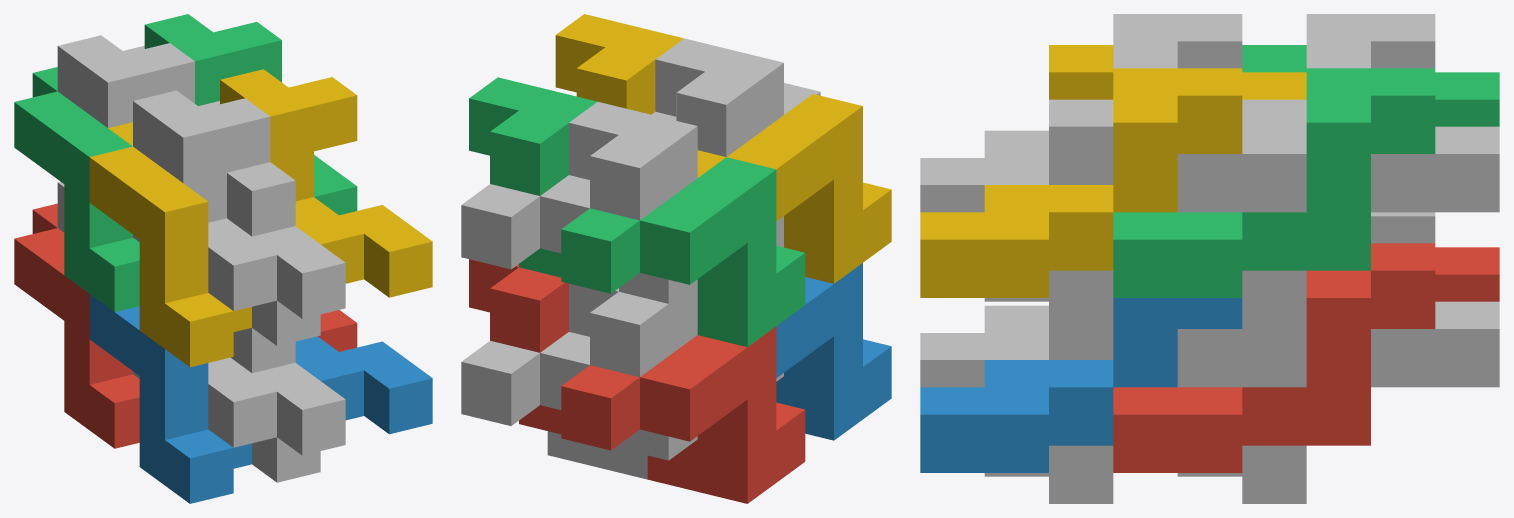
File: tiling.obj
The picture shows the model from 3 angles, left to right: view 1: azimuth 30°, elevation 25°; view 2: azimuth 150°, elevation 25°; view 3: azimuth 270°, elevation 25°; orthographic projection. The views are drawn at different scales.
Visible parts, largest first — view 1: copy_2_domain_4, copy_1_domain_4, copy_2_domain_8, copy_1_domain_2, copy_1_domain_3, copy_1_domain_1, copy_2_domain_2, copy_2_domain_3, copy_2_domain_6, copy_2_domain_7, copy_1_domain_8, copy_1_domain_6 (+1 smaller); view 2: copy_1_domain_1, copy_1_domain_3, copy_1_domain_4, copy_1_domain_2, copy_2_domain_3, copy_2_domain_4, copy_2_domain_7, copy_1_domain_5, copy_2_domain_1, copy_2_domain_8, copy_1_domain_7, copy_2_domain_5; view 3: copy_2_domain_7, copy_2_domain_8, copy_2_domain_5, copy_2_domain_6, copy_1_domain_8, copy_1_domain_7, copy_2_domain_4, copy_1_domain_6, copy_1_domain_5, copy_2_domain_3, copy_2_domain_2, copy_1_domain_3 (+3 smaller).
Part boxes in pixels (x1,y1,x2,y2): copy_2_domain_4: (133, 90, 345, 318); copy_1_domain_4: (89, 122, 251, 367); copy_2_domain_8: (220, 69, 432, 297); copy_1_domain_2: (89, 294, 251, 503); copy_1_domain_3: (14, 67, 139, 311); copy_1_domain_1: (14, 203, 139, 448); copy_2_domain_2: (208, 357, 345, 455); copy_2_domain_3: (57, 35, 194, 241); copy_2_domain_6: (295, 336, 432, 434); copy_2_domain_7: (144, 14, 357, 215); copy_1_domain_8: (198, 101, 320, 345); copy_1_domain_6: (231, 328, 320, 482); copy_1_domain_1: (561, 326, 805, 503); copy_1_domain_3: (561, 157, 805, 346); copy_1_domain_4: (697, 94, 891, 283); copy_1_domain_2: (776, 263, 891, 440); copy_2_domain_3: (569, 102, 697, 303); copy_2_domain_4: (655, 38, 820, 224); copy_2_domain_7: (469, 77, 597, 277); copy_1_domain_5: (461, 332, 647, 479); copy_2_domain_1: (569, 283, 697, 460); copy_2_domain_8: (555, 14, 683, 114); copy_1_domain_7: (461, 175, 589, 269); copy_2_domain_5: (469, 259, 568, 434); copy_2_domain_7: (1113, 68, 1435, 297); copy_2_domain_8: (920, 68, 1242, 297); copy_2_domain_5: (1113, 243, 1435, 472); copy_2_domain_6: (920, 298, 1242, 472); copy_1_domain_8: (984, 99, 1306, 328); copy_1_domain_7: (1242, 99, 1499, 328); copy_2_domain_4: (920, 14, 1242, 212); copy_1_domain_6: (984, 329, 1306, 503); copy_1_domain_5: (1177, 301, 1499, 503); copy_2_domain_3: (1306, 14, 1435, 68); copy_2_domain_2: (920, 305, 1048, 387); copy_1_domain_3: (1242, 45, 1499, 126).
Bounding box in the file's own units: 5 × 7 × 9.
